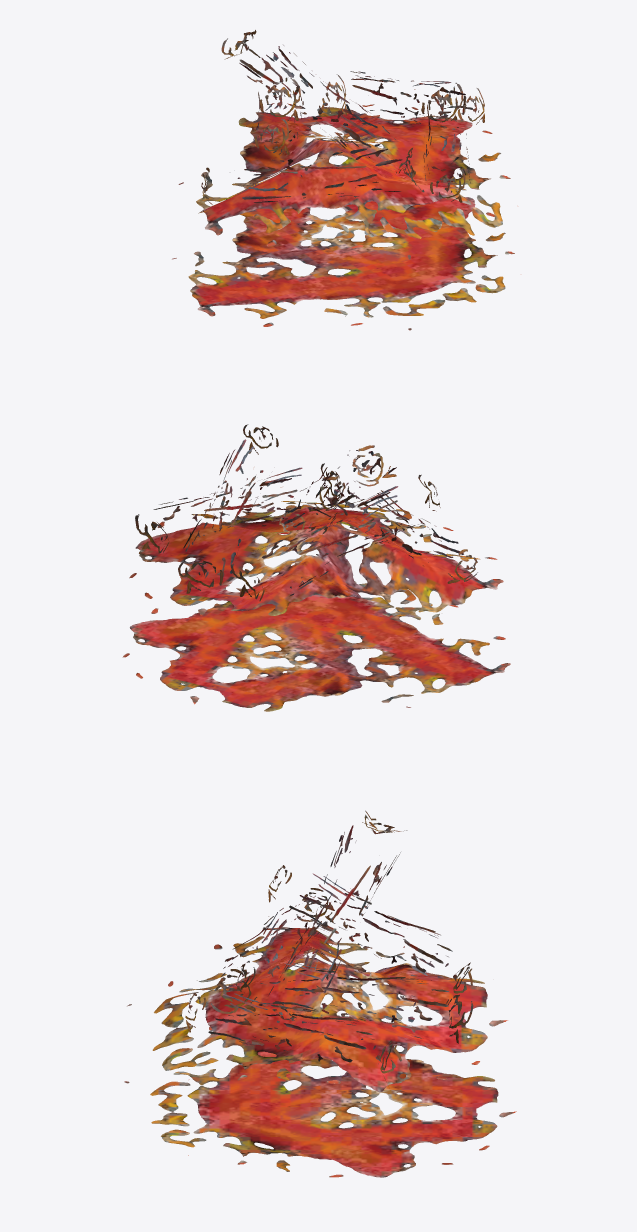
The model's file is eqp_camping_log_burnt_l0.fbx.
3 views of the same model, one above another, from view 1: azimuth 30°, elevation 25°; view 2: azimuth 150°, elevation 25°; view 3: azimuth 270°, elevation 25° (orthographic). The views are drawn at different scales.
Visible parts, largest first — view 1: mesh_node; view 2: mesh_node; view 3: mesh_node.
Part boxes in pixels (x1,y1,x2,y2): mesh_node: (172, 30, 514, 330); mesh_node: (122, 424, 510, 711); mesh_node: (124, 810, 516, 1177).
Bounding box in the file's own units: 1.08 × 0.498 × 1.08.
2 materials, 2 textured.
